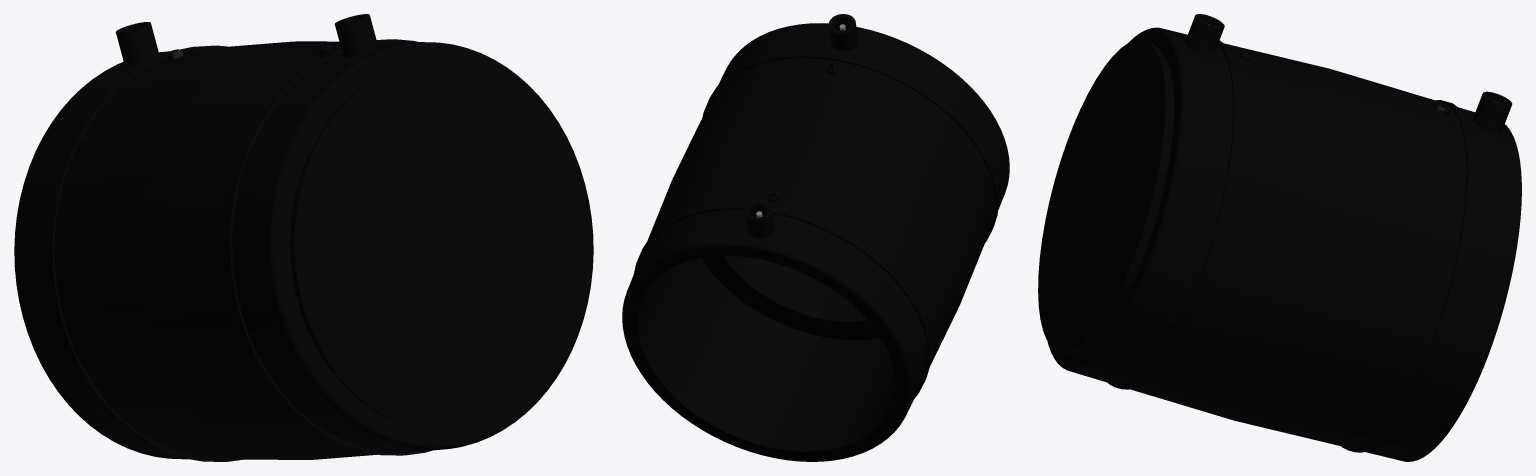
File: заглушка.glb
The picture shows the model from 3 angles, left to right: view 1: azimuth 30°, elevation 25°; view 2: azimuth 150°, elevation 25°; view 3: azimuth 270°, elevation 25°; orthographic projection. The views are drawn at different scales.
Parts seen in each view (by area): view 1: node_id3; view 2: node_id3; view 3: node_id3.
Part boxes in pixels (x1=…): node_id3: x1=14, y1=14, x2=593, y2=461; node_id3: x1=622, y1=14, x2=1009, y2=461; node_id3: x1=1038, y1=14, x2=1521, y2=461.
Bounding box in the file's own units: 0.5217 × 0.6145 × 0.6116.
Materials: 1 (1 with a texture image).
